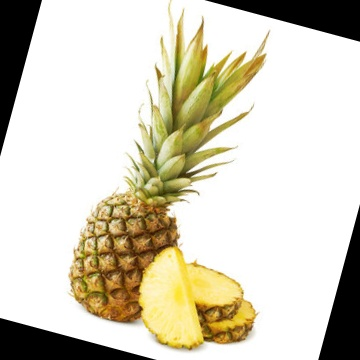Pineapple: (68, 8, 273, 323)
